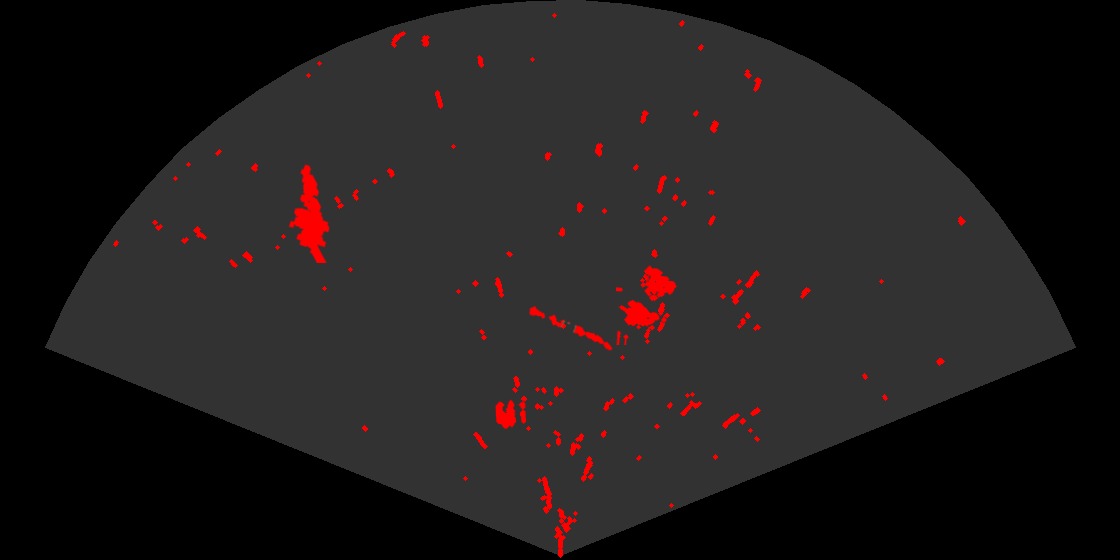ball: (494, 398, 528, 430)
cage: (616, 264, 678, 345)
chain: (527, 304, 614, 352)
frogman: (287, 163, 331, 263)
